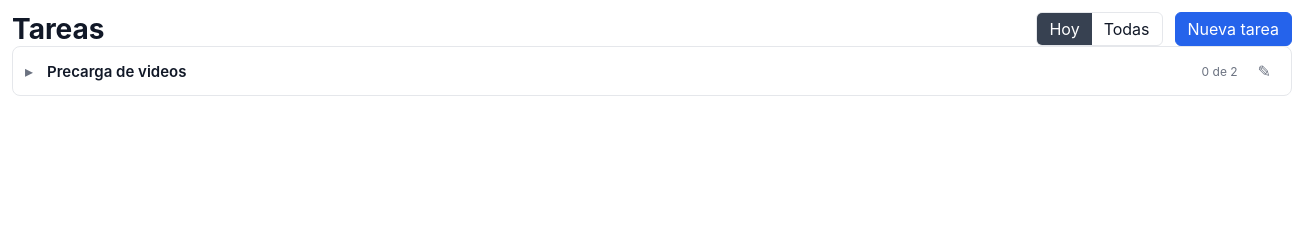
el título despliega y pliega los pasos
Check: the text "Copiar videos" is not shown
Click the button "▸ Precarga de videos".
click(117, 71)  # box [25,61,1190,81]
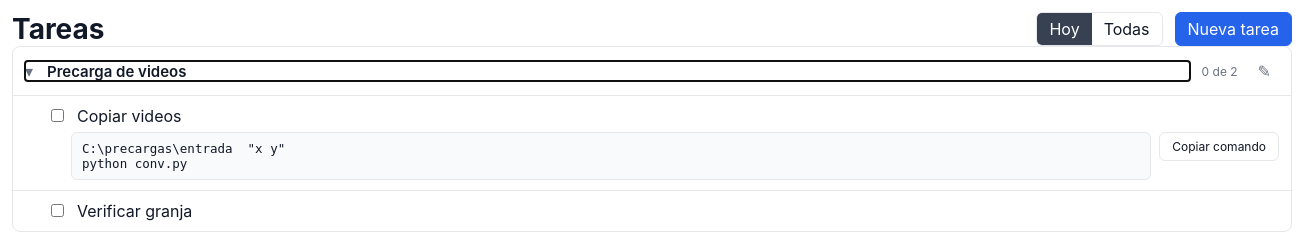
Check: the text "Copiar videos" is shown, box [77,106,182,126]
Click the button "▾ Precarga de videos".
click(117, 71)  # box [25,61,1190,81]
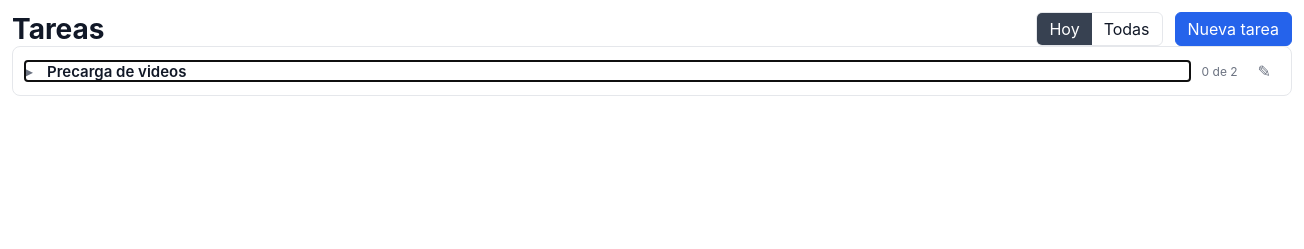
Check: the text "Copiar videos" is gone
